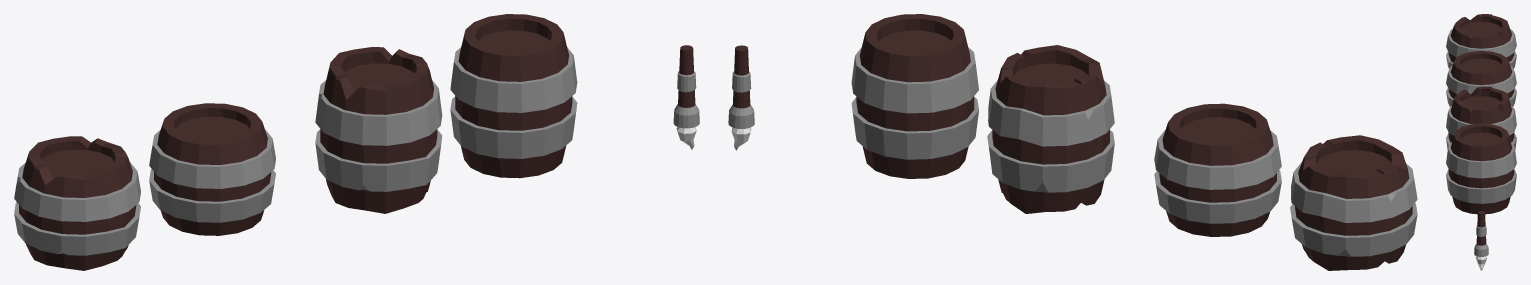
The model's file is Barrels.fbx.
3 renders of one model, left to right at view 1: azimuth 30°, elevation 25°; view 2: azimuth 150°, elevation 25°; view 3: azimuth 270°, elevation 25°, orthographic. The views are drawn at different scales.
Parts seen in each view (by area): view 1: DamagedBarrelLong, BarrelLong, DamagedBarrel, Barrel, Cylinder; view 2: DamagedBarrelLong, BarrelLong, DamagedBarrel, Barrel, Cylinder; view 3: BarrelLong, Barrel, DamagedBarrelLong, DamagedBarrel, Cylinder.
Boxes of the visible parts, left/top/right/bottom form: DamagedBarrelLong: left=315, top=47, right=442, bottom=213; BarrelLong: left=450, top=14, right=577, bottom=178; DamagedBarrel: left=14, top=136, right=140, bottom=270; Barrel: left=149, top=103, right=275, bottom=235; Cylinder: left=673, top=45, right=699, bottom=149; DamagedBarrelLong: left=987, top=45, right=1114, bottom=213; BarrelLong: left=851, top=14, right=978, bottom=178; DamagedBarrel: left=1290, top=135, right=1417, bottom=270; Barrel: left=1154, top=103, right=1281, bottom=236; Cylinder: left=728, top=45, right=754, bottom=150; BarrelLong: left=1446, top=123, right=1516, bottom=214; Barrel: left=1446, top=50, right=1516, bottom=106; DamagedBarrelLong: left=1446, top=86, right=1516, bottom=149; DamagedBarrel: left=1446, top=14, right=1516, bottom=69; Cylinder: left=1474, top=211, right=1488, bottom=270.
Bounding box in the file's own units: 1559 × 355 × 256.
